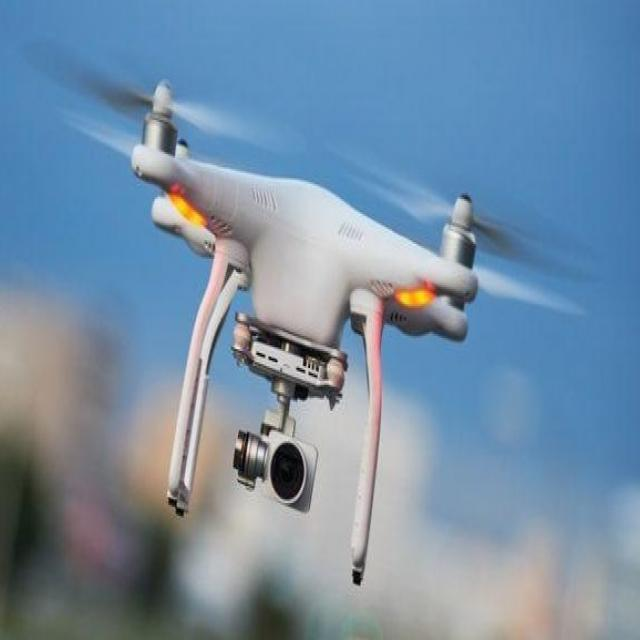drone: (14, 3, 612, 593)
